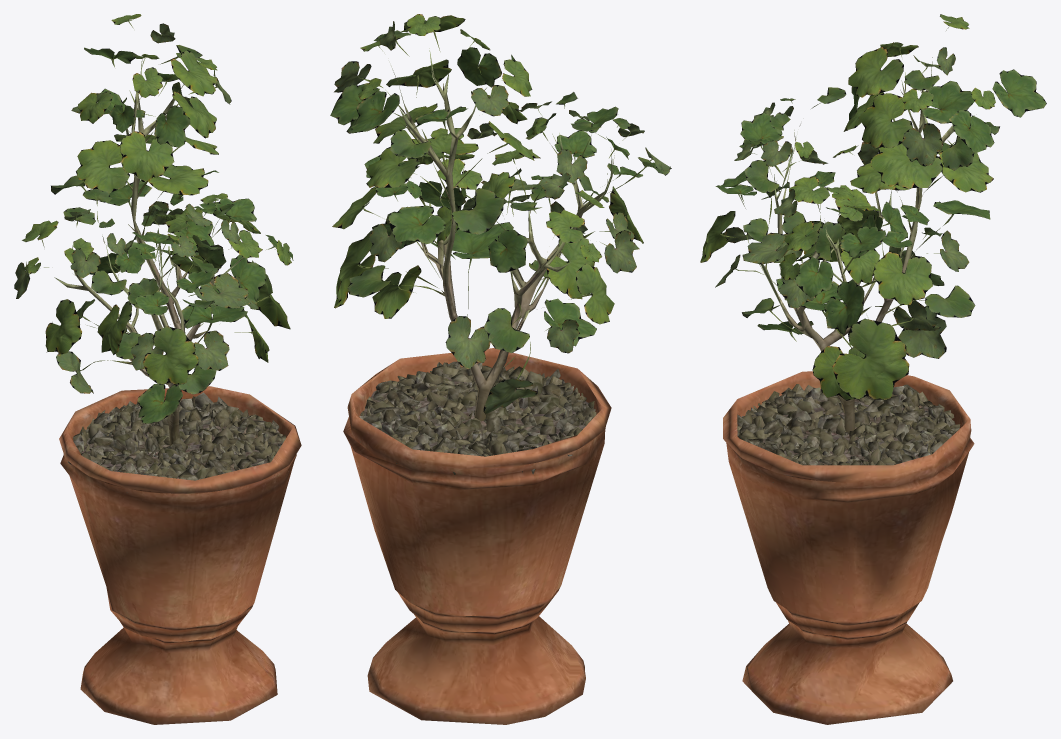
Rendered from pottedplant.glb.
3 renders of one model, left to right at view 1: azimuth 30°, elevation 25°; view 2: azimuth 150°, elevation 25°; view 3: azimuth 270°, elevation 25°, orthographic. The views are drawn at different scales.
Visible parts, largest first — view 1: potted_plant_01_pot, potted_plant_01_leaves, potted_plant_01_pebbles, potted_plant_01_stem; view 2: potted_plant_01_pot, potted_plant_01_leaves, potted_plant_01_pebbles, potted_plant_01_stem; view 3: potted_plant_01_pot, potted_plant_01_leaves, potted_plant_01_pebbles, potted_plant_01_stem.
Boxes of the visible parts, bbox=[...] form: potted_plant_01_pot: bbox=[59, 386, 301, 724]; potted_plant_01_leaves: bbox=[14, 14, 293, 423]; potted_plant_01_pebbles: bbox=[68, 392, 293, 492]; potted_plant_01_stem: bbox=[54, 57, 244, 445]; potted_plant_01_pot: bbox=[343, 348, 611, 724]; potted_plant_01_leaves: bbox=[330, 14, 671, 414]; potted_plant_01_pebbles: bbox=[359, 361, 596, 474]; potted_plant_01_stem: bbox=[399, 48, 612, 421]; potted_plant_01_pot: bbox=[723, 371, 974, 724]; potted_plant_01_leaves: bbox=[700, 14, 1046, 400]; potted_plant_01_pebbles: bbox=[737, 384, 966, 482]; potted_plant_01_stem: bbox=[760, 57, 966, 434].
Bounding box in the file's own units: 0.5866 × 1.33 × 0.6336.
2 materials, 2 textured.
